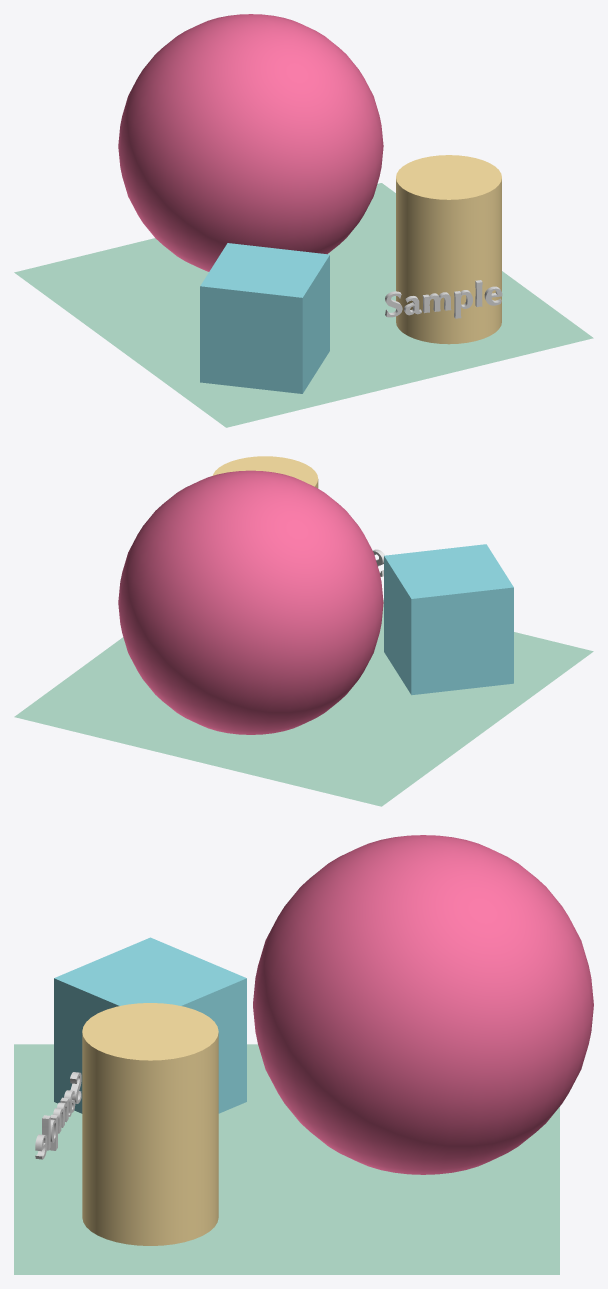
Rendered from sample-entity.glb.
3 renders of one model, top to bottom at view 1: azimuth 30°, elevation 25°; view 2: azimuth 150°, elevation 25°; view 3: azimuth 270°, elevation 25°, orthographic. The views are drawn at different scales.
Bounding box in the file's own units: 4 × 2.5 × 4.25.
